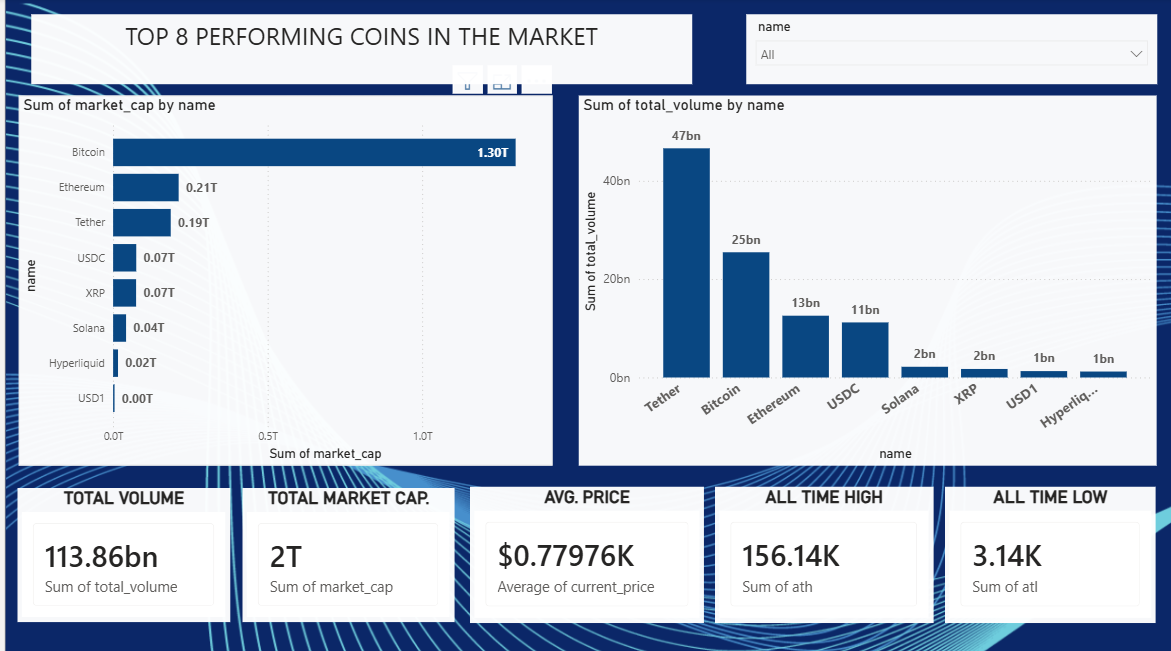

This screenshot's page, from the dashboard's own definition file:
{"tool":"powerbi","page":{"name":"top performing coins","canvas":[1280,720],"ordinal":0},"visuals":[{"type":"columnChart","fields":{"Category":["Query.name"],"Y":["Sum(Query.total_volume)"]},"box":[630,106.4,634.1,406.6],"z":0},{"type":"clusteredBarChart","fields":{"Category":["Query.name"],"Y":["Sum(Query.market_cap)"]},"box":[14.8,106.4,585.6,406.6],"z":1000},{"type":"cardVisual","title":"TOTAL VOLUME","fields":{"Data":["Sum(Query.total_volume)"]},"box":[14.4,537.5,234,147.6],"z":2000},{"type":"cardVisual","title":"TOTAL MARKET  CAP.","fields":{"Data":["Sum(Query.market_cap)"]},"box":[260.4,537.5,232.8,147.6],"z":3000},{"type":"cardVisual","title":"AVG. PRICE","fields":{"Data":["Avg(Query.current_price)"]},"box":[510.2,537.1,257.1,149.4],"z":4000},{"type":"cardVisual","title":"ALL TIME HIGH ","fields":{"Data":["Sum(Query.ath)"]},"box":[779.5,537.1,239.6,149.4],"z":5000},{"type":"cardVisual","title":"ALL TIME LOW","fields":{"Data":["Sum(Query.atl)"]},"box":[1032.6,537.1,231.6,149.4],"z":6000},{"type":"slicer","fields":{"Values":["Query.name"]},"box":[813.1,17.5,451,76.7],"z":7000},{"type":"textbox","box":[28.3,17.5,725.6,76.7],"z":8000}]}

Visuals, with their boxes in screenshot pixels (x1, y1, x2, y2), scaled from the page's 1280x720 canvas onto the 1171x651 screenshot:
columnChart - Query.name x Sum(Query.total_volume): BBox(576, 96, 1156, 464)
clusteredBarChart - Query.name x Sum(Query.market_cap): BBox(14, 96, 549, 464)
"TOTAL VOLUME" cardVisual: BBox(13, 486, 227, 619)
"TOTAL MARKET  CAP." cardVisual: BBox(238, 486, 451, 619)
"AVG. PRICE" cardVisual: BBox(467, 486, 702, 621)
"ALL TIME HIGH " cardVisual: BBox(713, 486, 932, 621)
"ALL TIME LOW" cardVisual: BBox(945, 486, 1157, 621)
slicer - Query.name: BBox(744, 16, 1156, 85)
textbox: BBox(26, 16, 690, 85)
